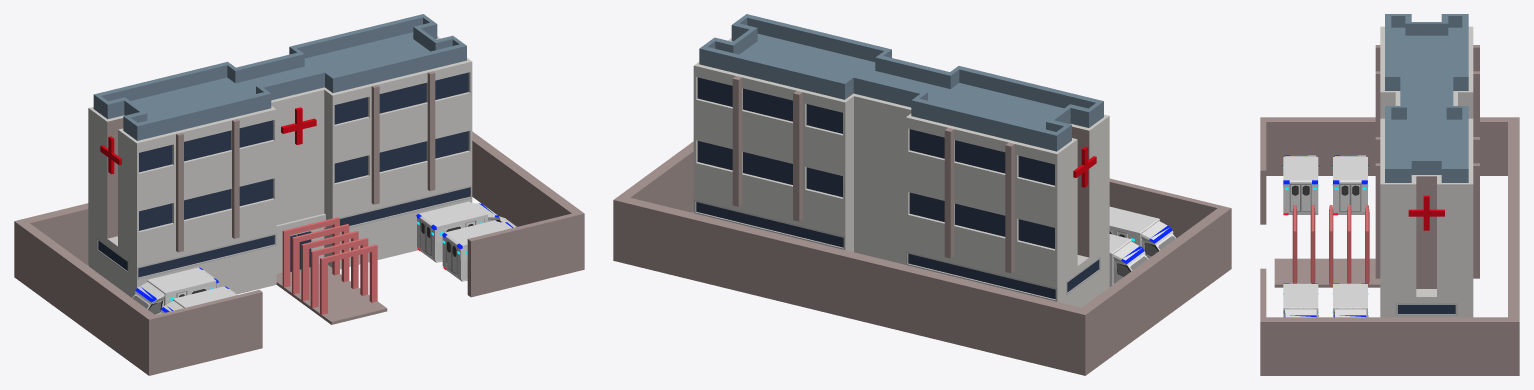
File: Hospital.fbx
3 renders of one model, left to right at view 1: azimuth 30°, elevation 25°; view 2: azimuth 150°, elevation 25°; view 3: azimuth 270°, elevation 25°, orthographic. The views are drawn at different scales.
Visible parts, largest first — view 1: Hospital_LOD0; view 2: Hospital_LOD0; view 3: Hospital_LOD0.
Boxes of the visible parts, x1,y1,x2,y2 form: Hospital_LOD0: (14, 14, 584, 375); Hospital_LOD0: (613, 14, 1231, 375); Hospital_LOD0: (1260, 14, 1519, 375).
Size of what is drawn, in the model's own units: 1558 by 650 by 836.
